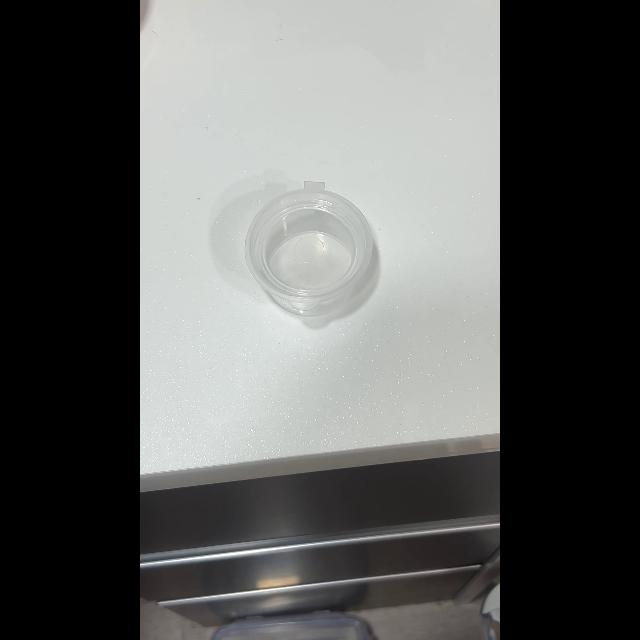clean: (244, 183, 374, 315)
